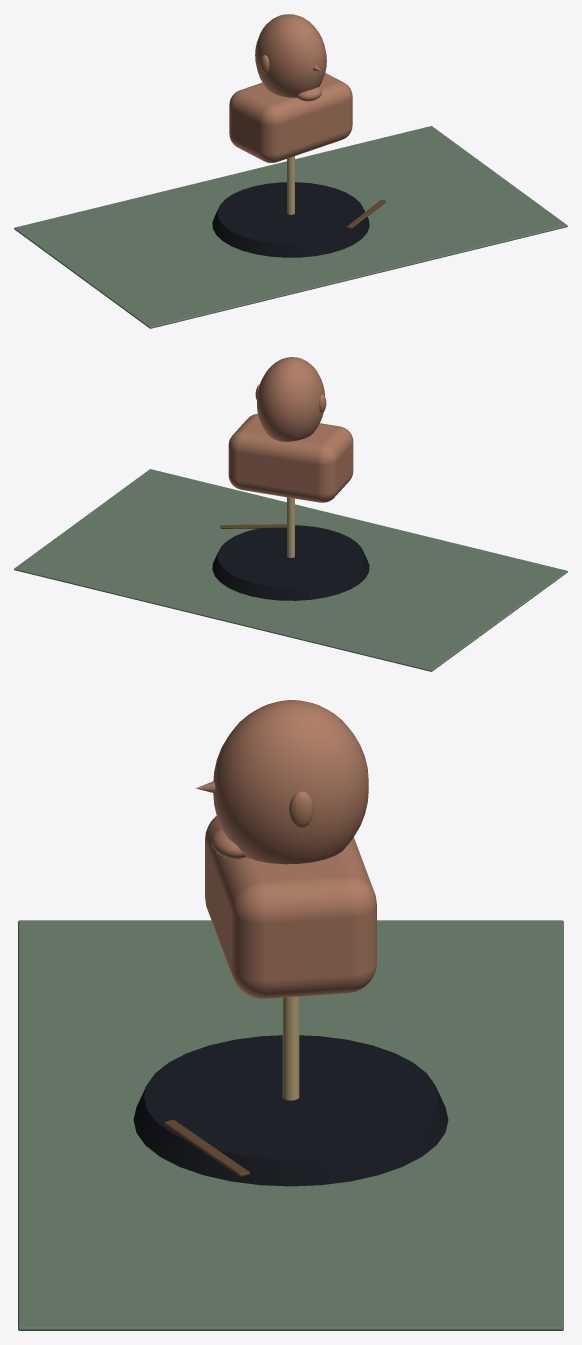
File: atelier-artist-set-sculpture-sage.glb
The picture shows the model from 3 angles, top to bottom: view 1: azimuth 30°, elevation 25°; view 2: azimuth 150°, elevation 25°; view 3: azimuth 270°, elevation 25°; orthographic projection. The views are drawn at different scales.
Bounding box in the file's own units: 0.92 × 0.4443 × 0.52.
